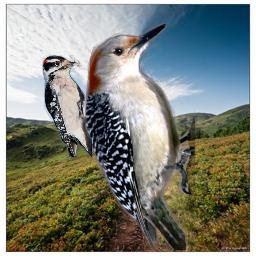Woodpecker: (85, 23, 195, 250), (42, 55, 92, 159)
